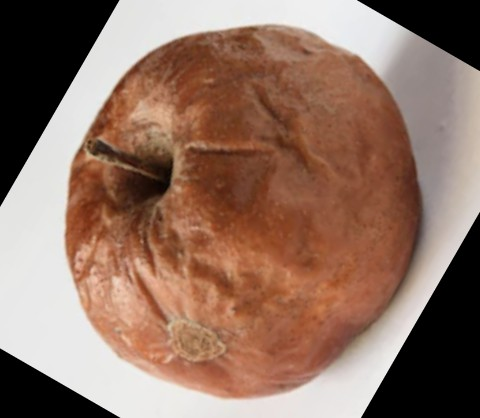rotten_apple: (66, 25, 425, 399)
